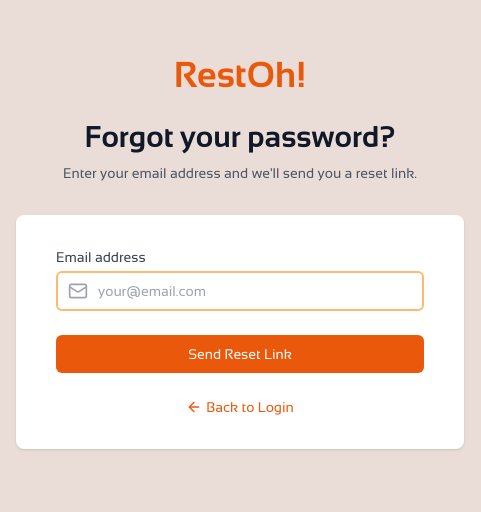
Test case: ForgotPassword Component › Error Handling › should still show success screen even if API returns error (OWASP)
Type "nonexistent@example.com" into the field labelled "Email address".
click(240, 291); type("nonexistent@example.com")  # box [56,271,424,311]
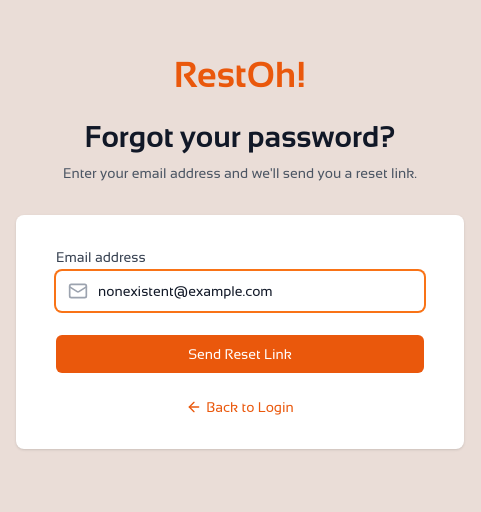
Click the button "Send Reset Link".
click(240, 354)  # box [56,335,424,373]
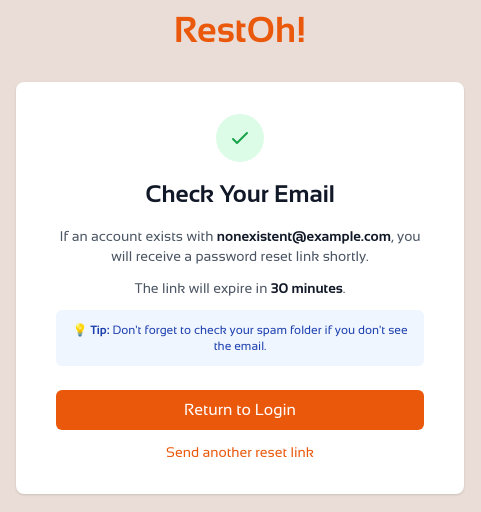
Expected: the heading "Check Your Email" is shown, [145,180,335,207]
